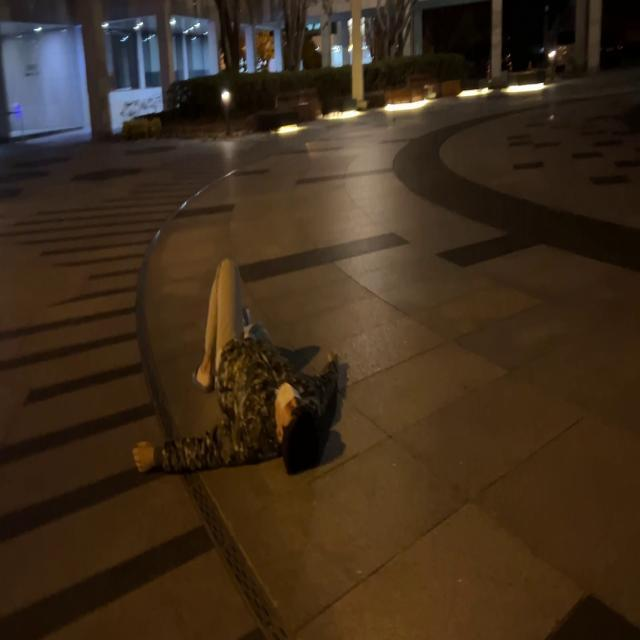Fall: (133, 259, 338, 474)
